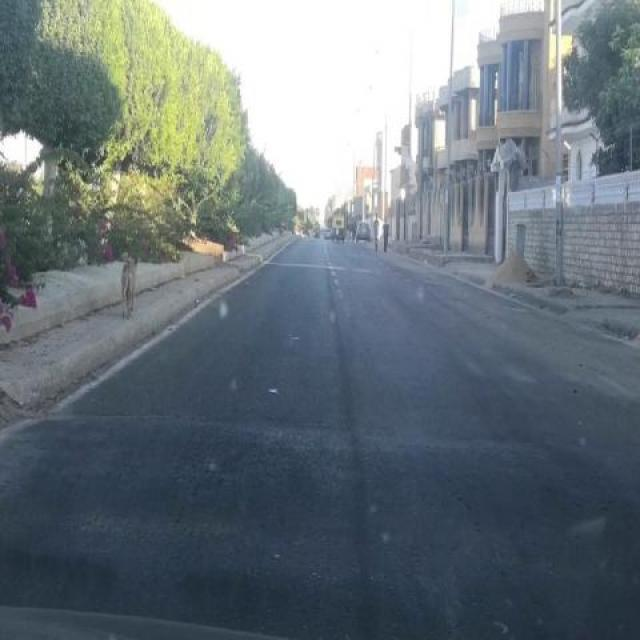Unmarked Bump: (0, 422, 640, 544)
